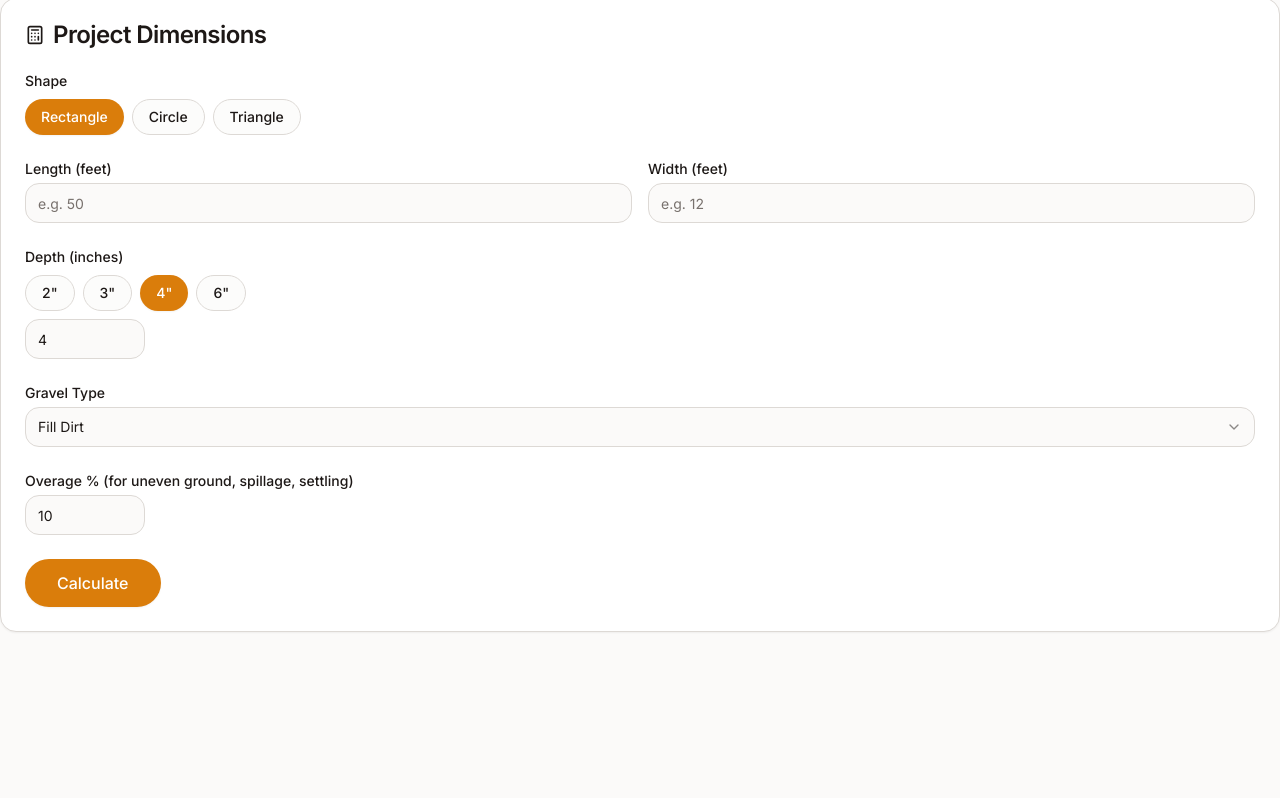
Test: GravelCalculator › rectangle calculations › should show the phone pricing note instead of a cost estimate
Type "50" into the number field with placeholder "e.g. 50" at coordinates (328, 203), box [25,183,632,223]
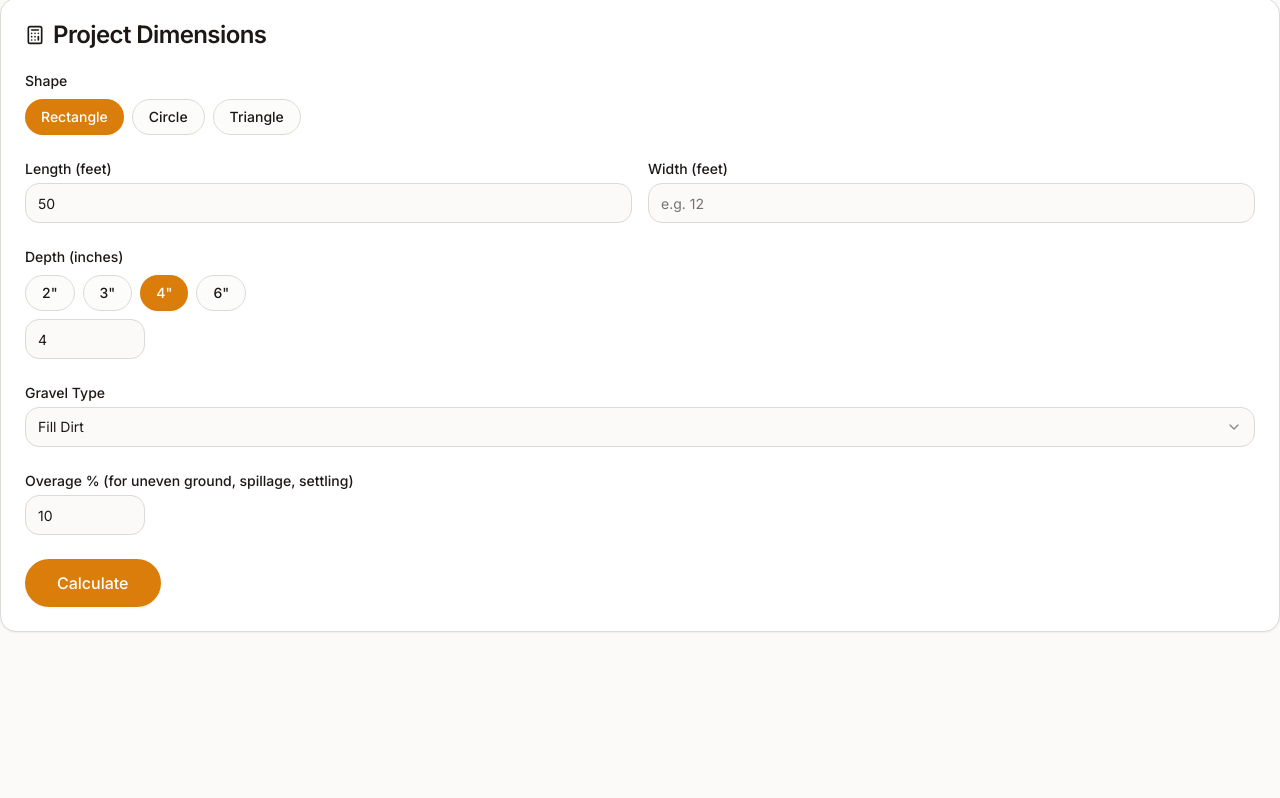
Type "12" into the number field with placeholder "e.g. 12" at coordinates (952, 203), box [648,183,1255,223]
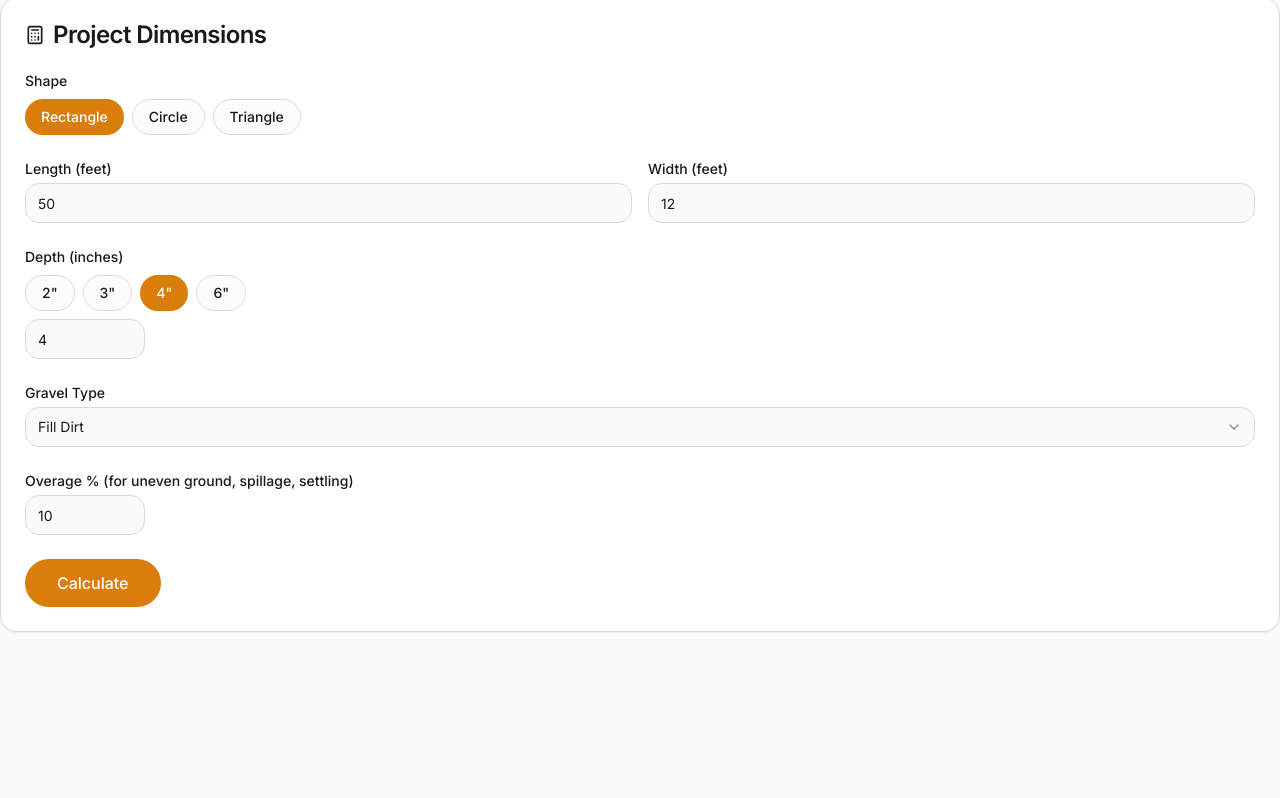
Click the button "Calculate" at coordinates (93, 583), box [25,559,160,607]
(page scrolled)
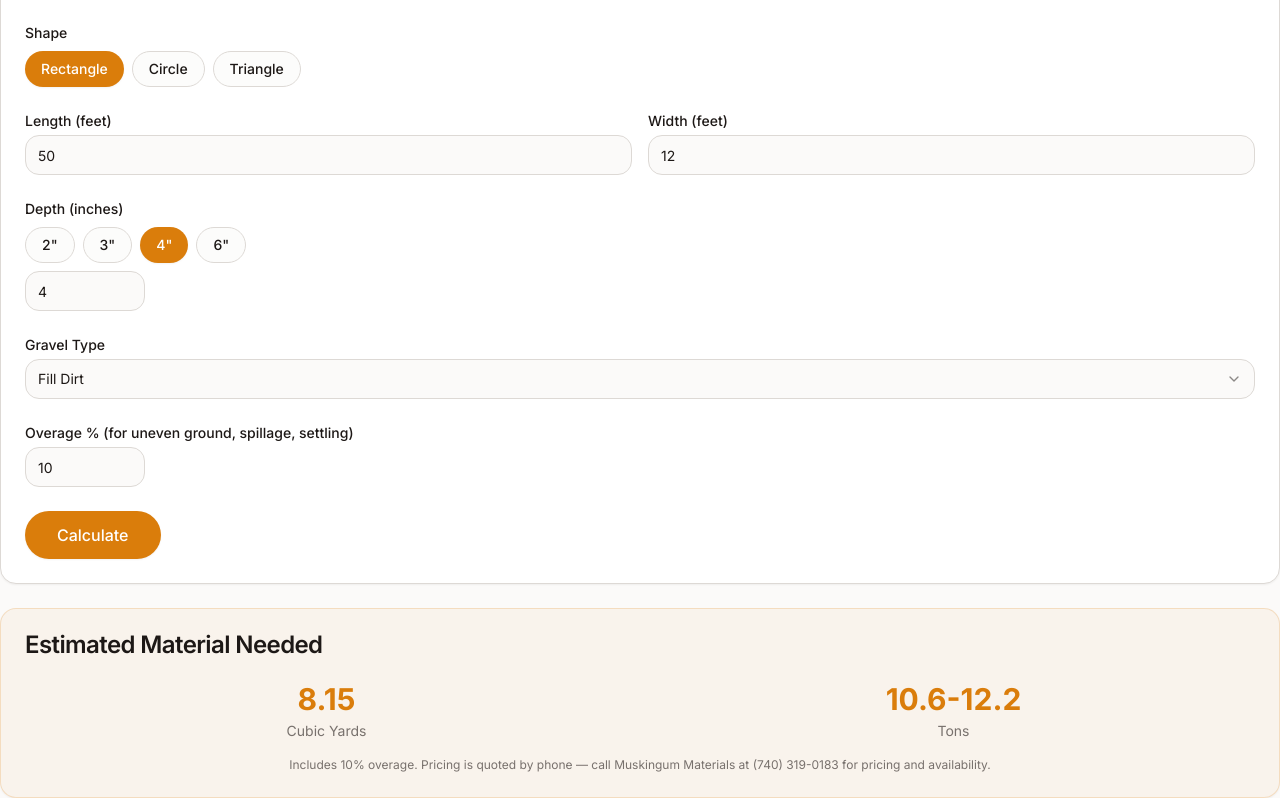
Check: the text "(740) 319-0183" is shown, box [353,757,991,772]
